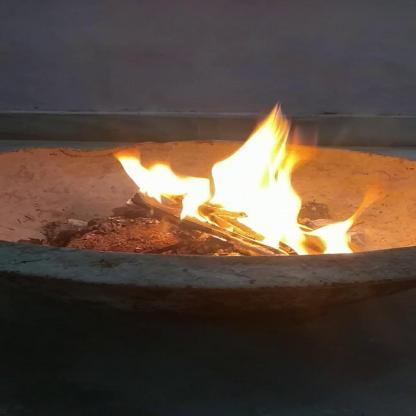fire: (99, 96, 372, 270)
